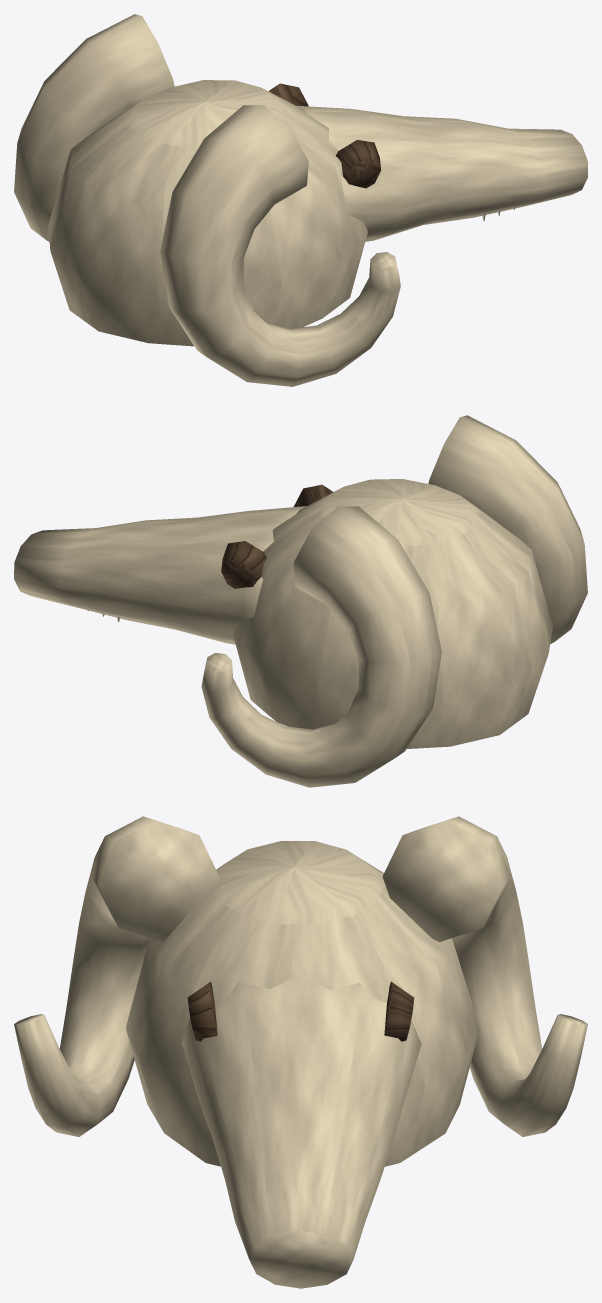
Rendered from Skull_Beast_1.gltf.
3 renders of one model, top to bottom at view 1: azimuth 30°, elevation 25°; view 2: azimuth 150°, elevation 25°; view 3: azimuth 270°, elevation 25°, orthographic. The views are drawn at different scales.
Visible parts, largest first — view 1: Skull_Beast_1; view 2: Skull_Beast_1; view 3: Skull_Beast_1.
Boxes of the visible parts, x1,y1,x2,y2 form: Skull_Beast_1: [14, 14, 587, 386]; Skull_Beast_1: [14, 415, 587, 787]; Skull_Beast_1: [14, 816, 587, 1288].
Bounding box in the file's own units: 2.94 × 1.42 × 2.43.
2 materials, 2 textured.
